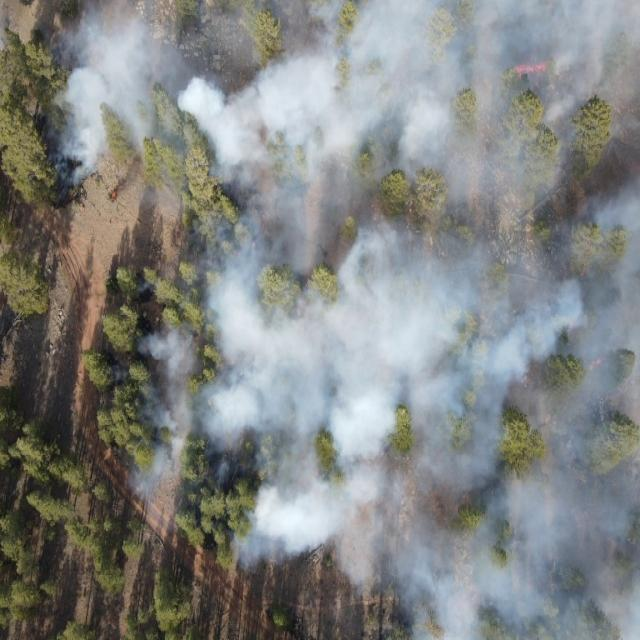fire: (510, 60, 549, 74), (585, 358, 605, 373), (109, 190, 119, 200), (142, 342, 151, 352)
smoke: (264, 180, 640, 572), (42, 0, 640, 181), (204, 182, 264, 472), (395, 572, 640, 640), (129, 325, 203, 501), (230, 484, 264, 574), (345, 572, 394, 592), (580, 261, 588, 278)
